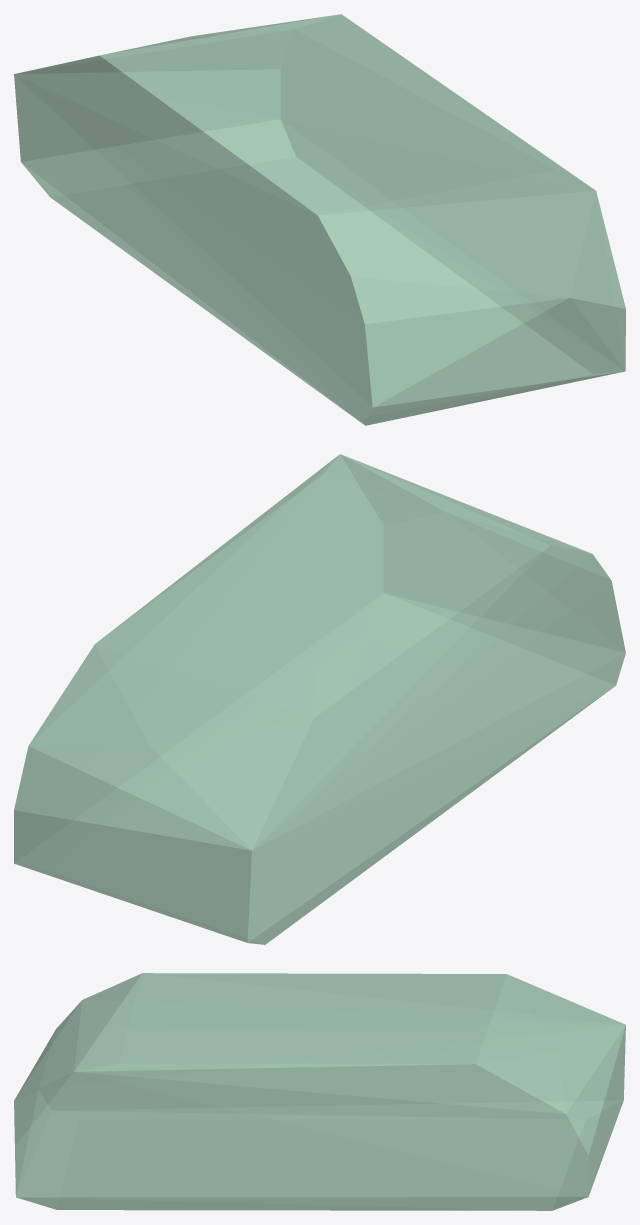
3 views of the same model, one above another, from view 1: azimuth 30°, elevation 25°; view 2: azimuth 150°, elevation 25°; view 3: azimuth 270°, elevation 25° (orthographic). The views are drawn at different scales.
Parts seen in each view (by area): view 1: Shape_IndexedFaceSet.018_Shape_IndexedFaceSet.16485; view 2: Shape_IndexedFaceSet.018_Shape_IndexedFaceSet.16485; view 3: Shape_IndexedFaceSet.018_Shape_IndexedFaceSet.16485.
Boxes of the visible parts, box(x1,y1,x2,y2) form: Shape_IndexedFaceSet.018_Shape_IndexedFaceSet.16485: box(14, 14, 625, 425); Shape_IndexedFaceSet.018_Shape_IndexedFaceSet.16485: box(14, 454, 625, 944); Shape_IndexedFaceSet.018_Shape_IndexedFaceSet.16485: box(14, 973, 625, 1210).
Bounding box in the file's own units: 0.0796 × 0.054 × 0.203.
